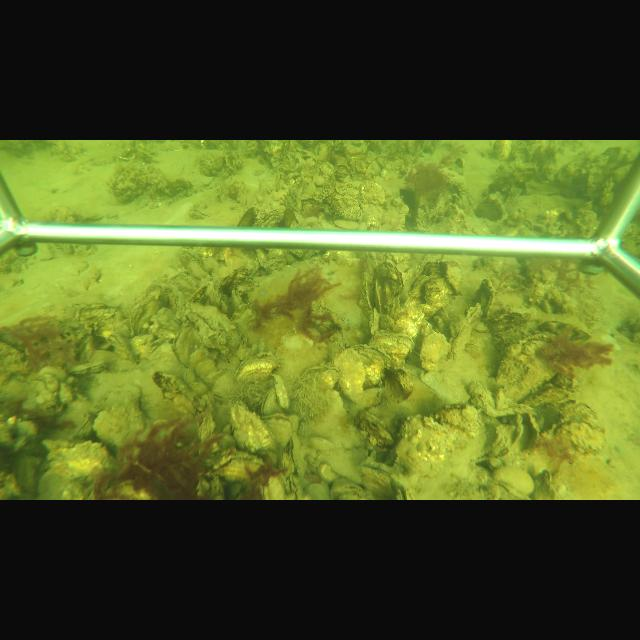Oyster-Closed: (35, 438, 117, 498), (497, 333, 565, 403), (331, 344, 388, 402), (186, 302, 240, 360), (230, 401, 276, 451), (366, 331, 415, 368), (374, 262, 404, 314), (235, 351, 281, 383), (171, 322, 203, 367), (535, 317, 590, 341), (448, 323, 472, 361), (289, 434, 307, 477), (477, 279, 496, 317), (68, 410, 92, 438), (66, 360, 107, 376), (274, 374, 290, 412), (446, 260, 463, 294), (260, 388, 278, 415), (367, 308, 382, 335)
Oyster-Open: (209, 450, 268, 482), (509, 413, 544, 450), (359, 273, 384, 313)
